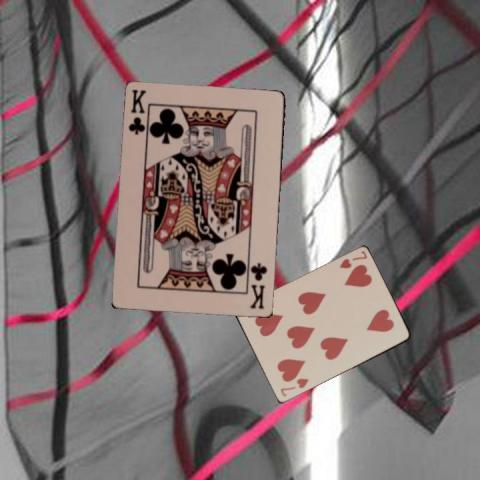7h: (277, 375, 311, 398), (336, 248, 369, 270)
Kc: (125, 86, 148, 136), (247, 260, 269, 311)
